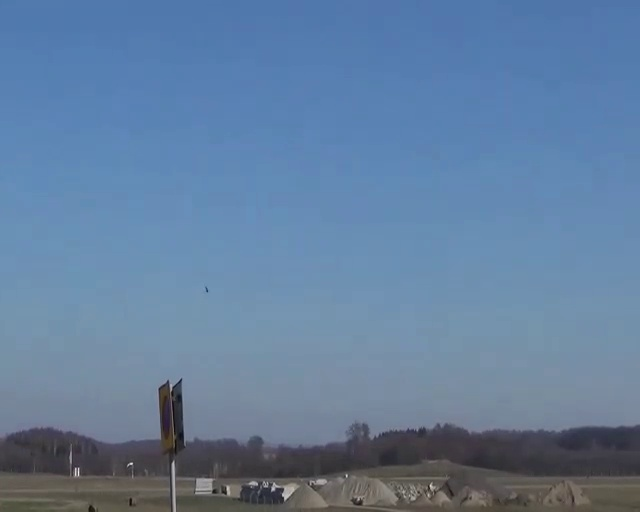BIRD: (202, 284, 211, 296)
